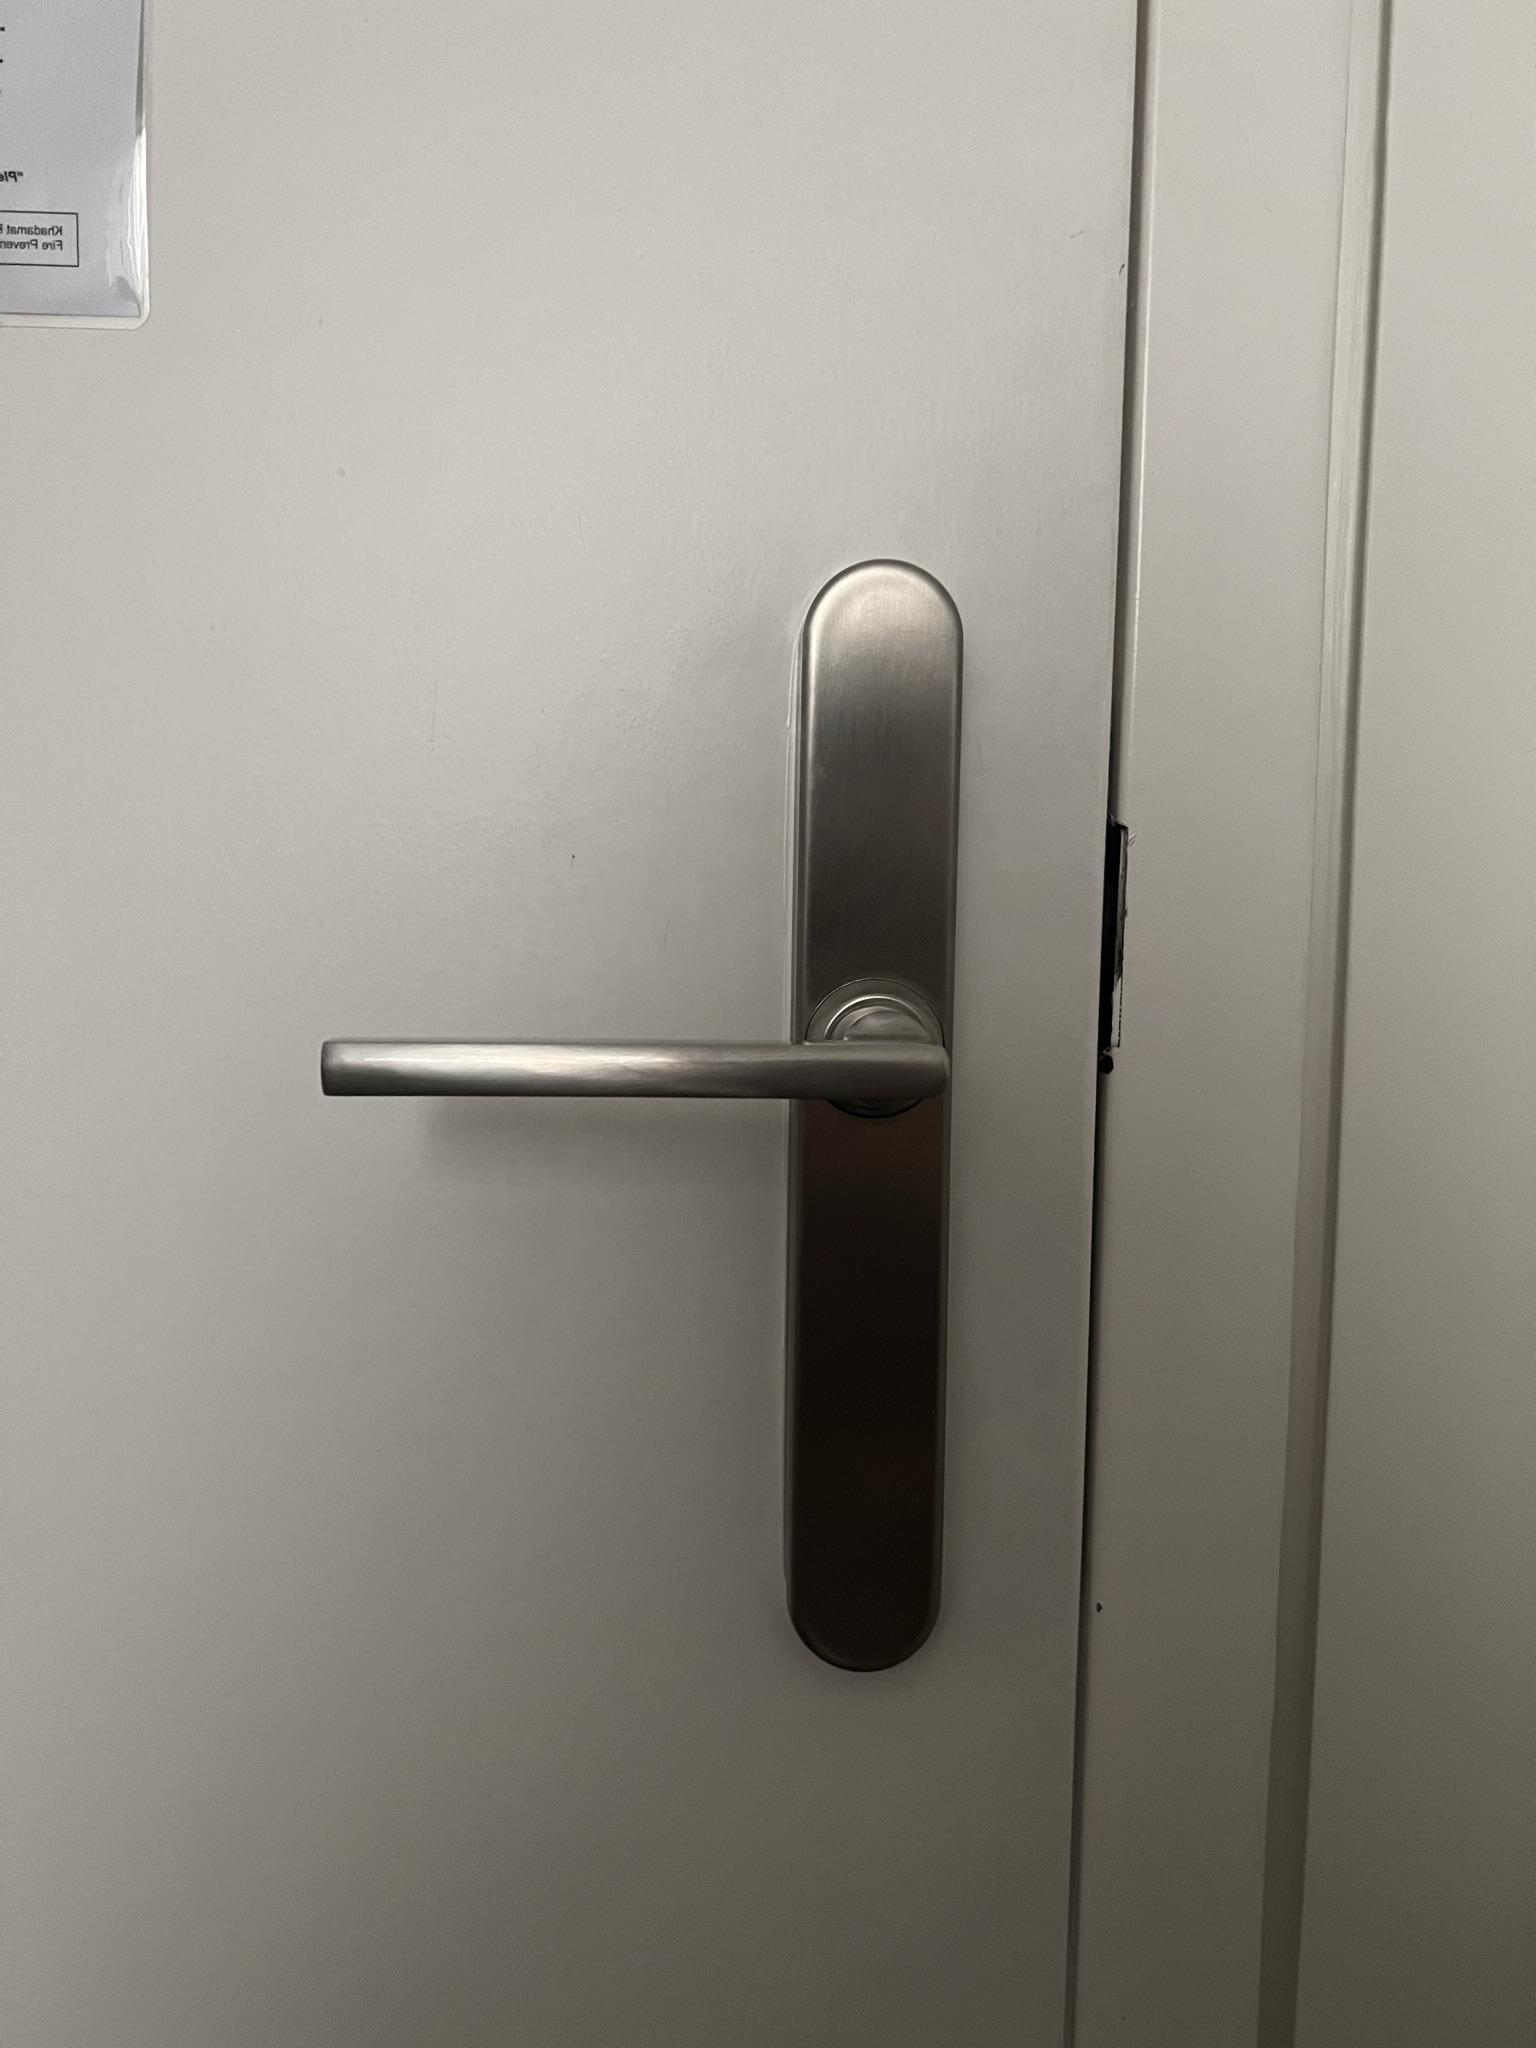handle: (315, 547, 984, 1679)
